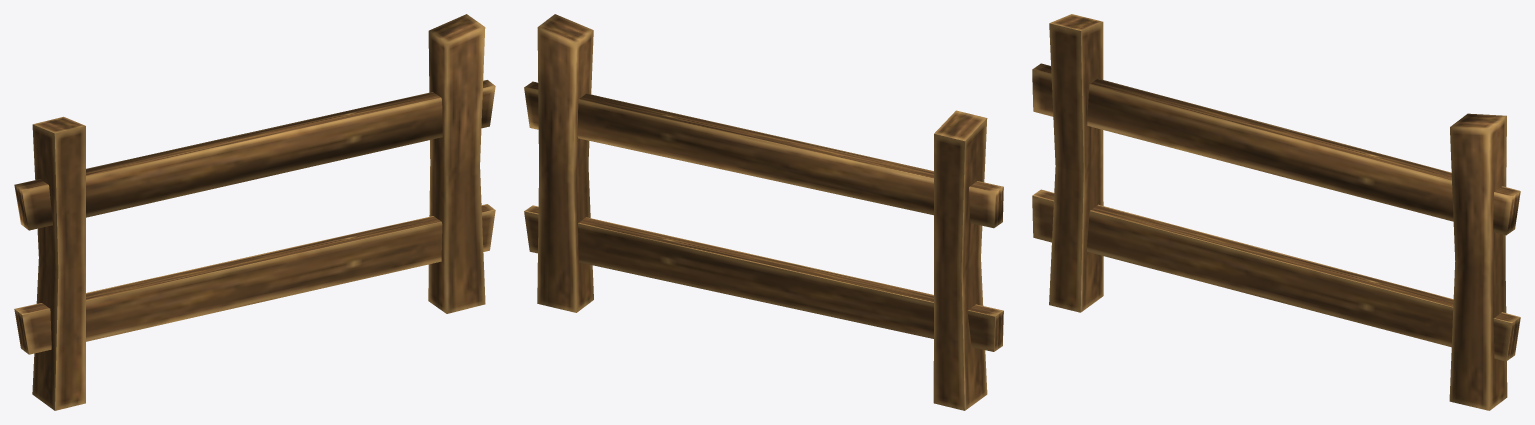
File: WoodenFence04.FBX
3 views of the same model, side by side, from view 1: azimuth 30°, elevation 25°; view 2: azimuth 150°, elevation 25°; view 3: azimuth 330°, elevation 25° (orthographic).
Parts seen in each view (by area): view 1: WoodenFence04; view 2: WoodenFence04; view 3: WoodenFence04.
Part boxes in pixels (box(x1,y1,x2,y2)): WoodenFence04: box(14, 14, 495, 410); WoodenFence04: box(524, 14, 1003, 410); WoodenFence04: box(1032, 14, 1520, 410).
Bounding box in the file's own units: 2.38 × 0.1964 × 1.33.
